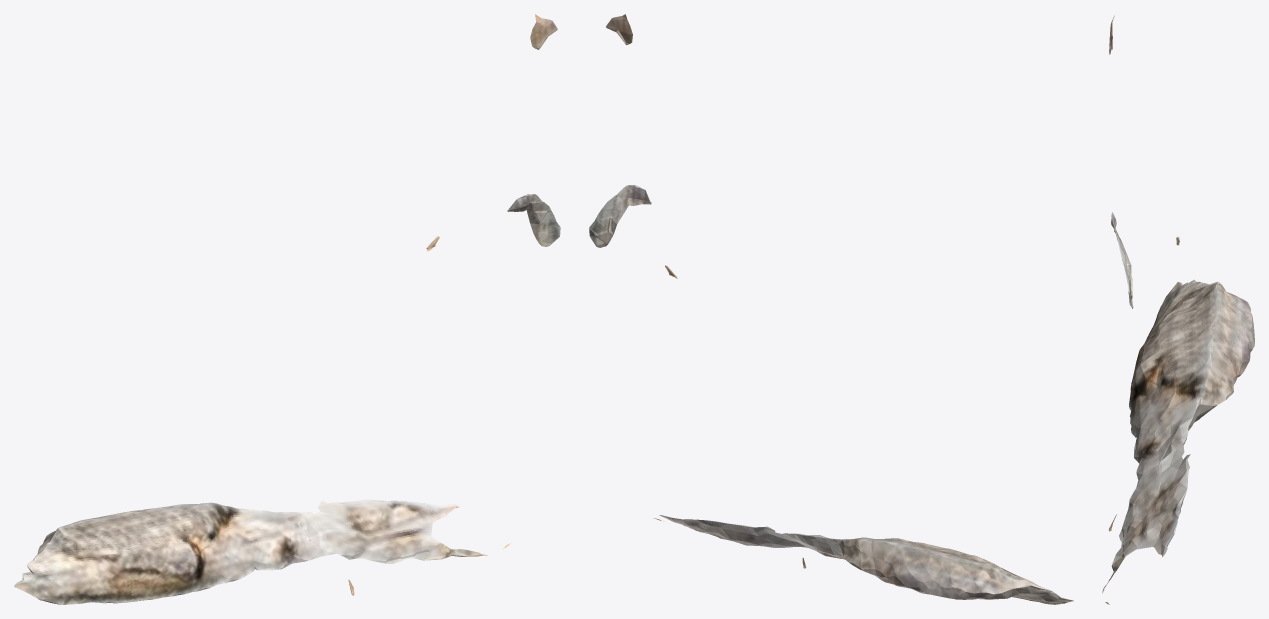
The model's file is dead_pines.glb.
3 renders of one model, left to right at view 1: azimuth 30°, elevation 25°; view 2: azimuth 150°, elevation 25°; view 3: azimuth 270°, elevation 25°, orthographic. The views are drawn at different scales.
Visible parts, largest first — view 1: geometry_0; view 2: geometry_0; view 3: geometry_0.
Boxes of the visible parts, <box> form: geometry_0: <box>14,14,560,604</box>; geometry_0: <box>589,14,1073,604</box>; geometry_0: <box>1102,15,1254,604</box>.
Bounding box in the file's own units: 0.854 × 0.8298 × 0.185.
1 material, 1 textured.
